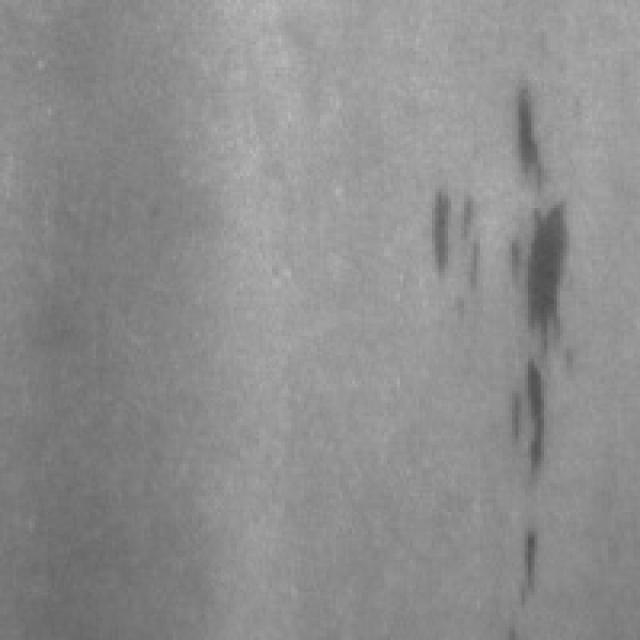inclusion: (502, 192, 573, 349), (416, 176, 490, 298), (496, 74, 550, 192), (502, 346, 548, 480), (500, 499, 550, 611)
